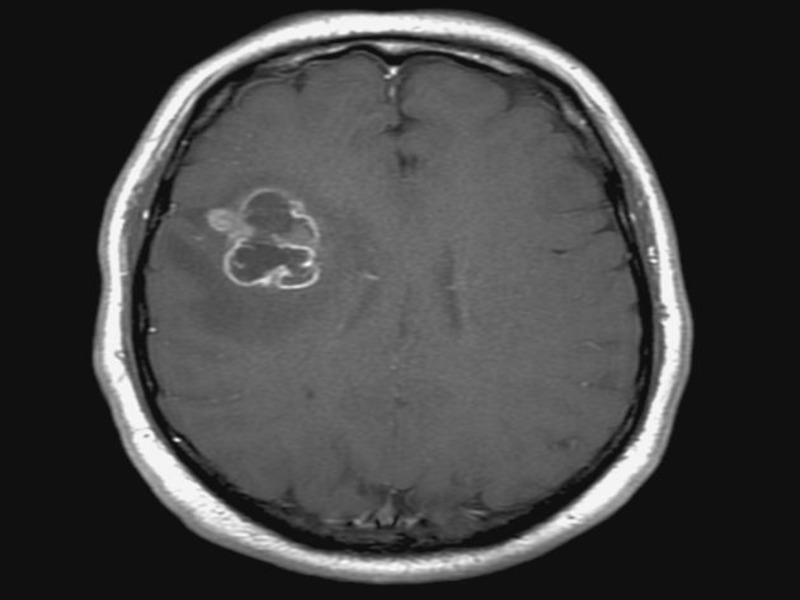tumor: (201, 176, 333, 306)
